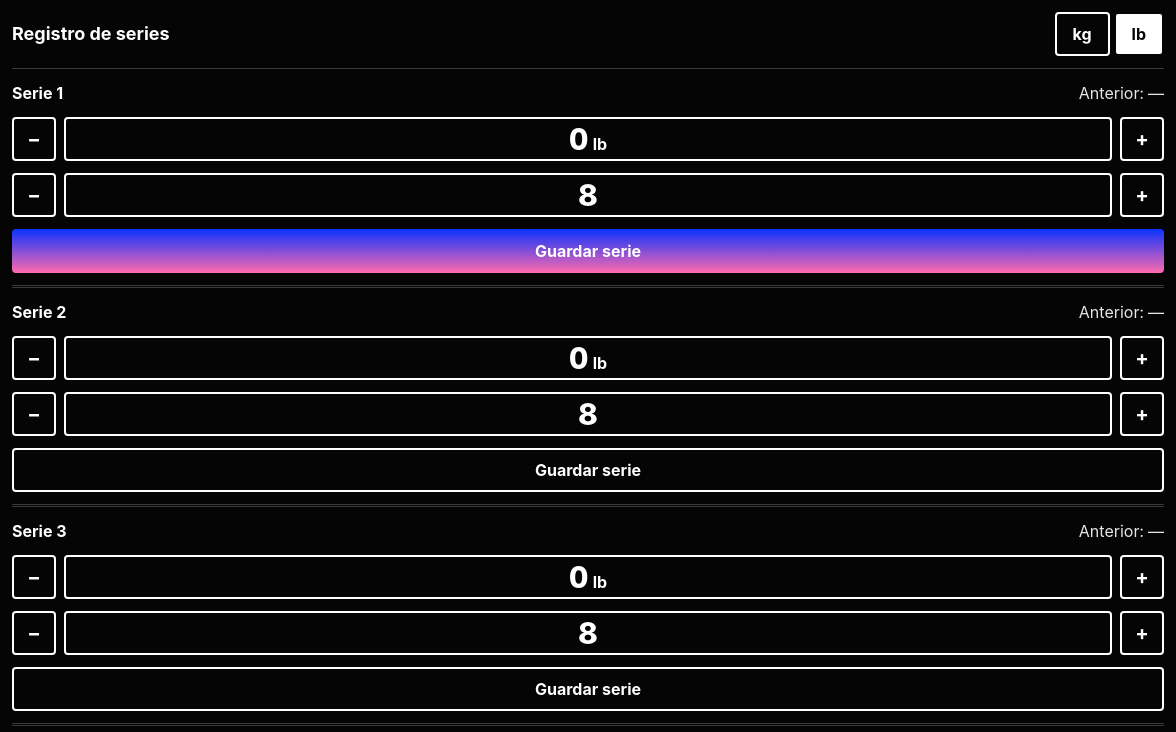
it: LoggingSection — unidad de peso (08 R1, R4, R6, R7, R11, R14, R15) › R7/R9/R14: guardar 45 lb inserta weight_kg 20.41 y la fila queda '45 lb'
The width and height of the screenshot is (1176, 732).
Expected: the heading "Serie 1" is shown, [12,81,63,105]
Click the button with aria-label "Peso serie 1" at (588, 139), box [64,117,1112,161]
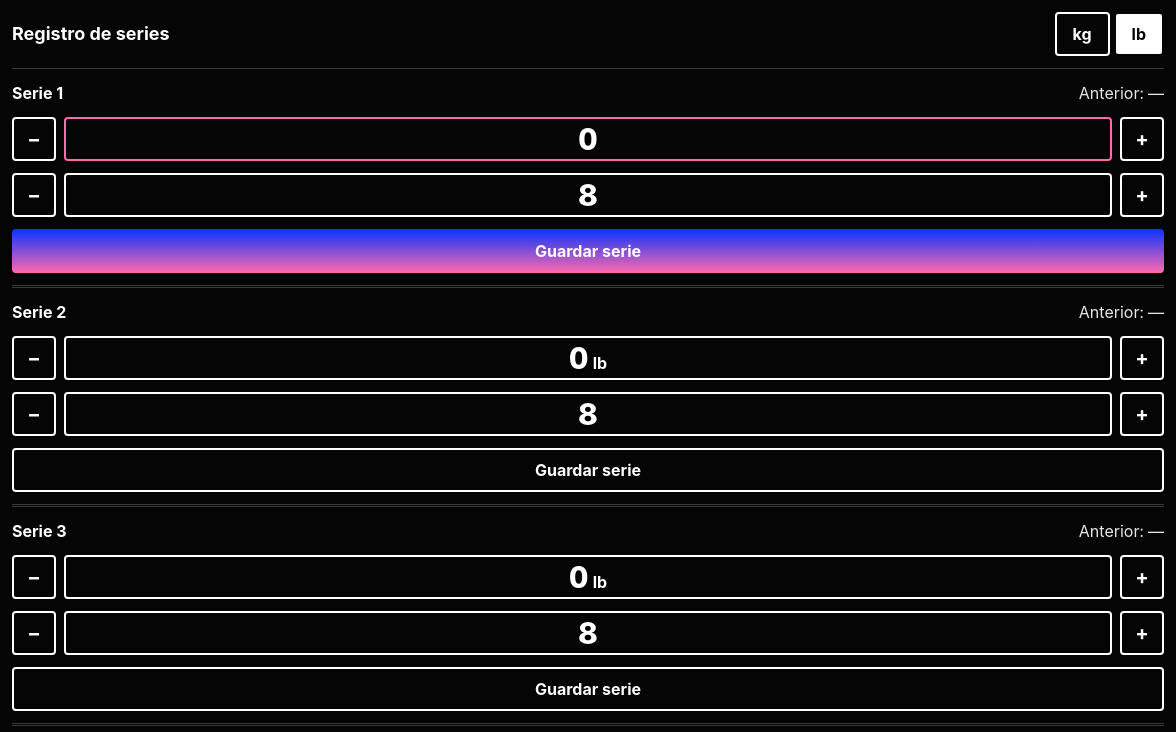
Replace the text in the field named "Peso serie 1" with "45" at (588, 139), box [64,117,1112,161]
Then press Enter
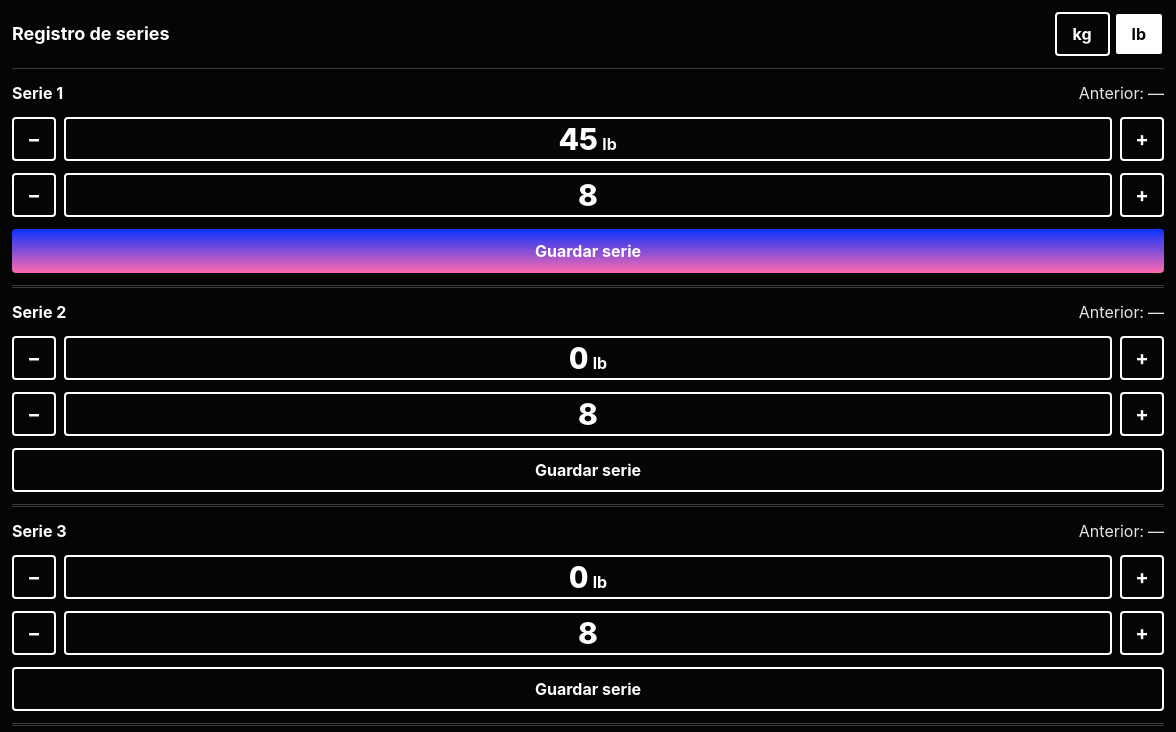
Click the 1st button "Guardar serie" at (588, 251), box [12,229,1164,273]
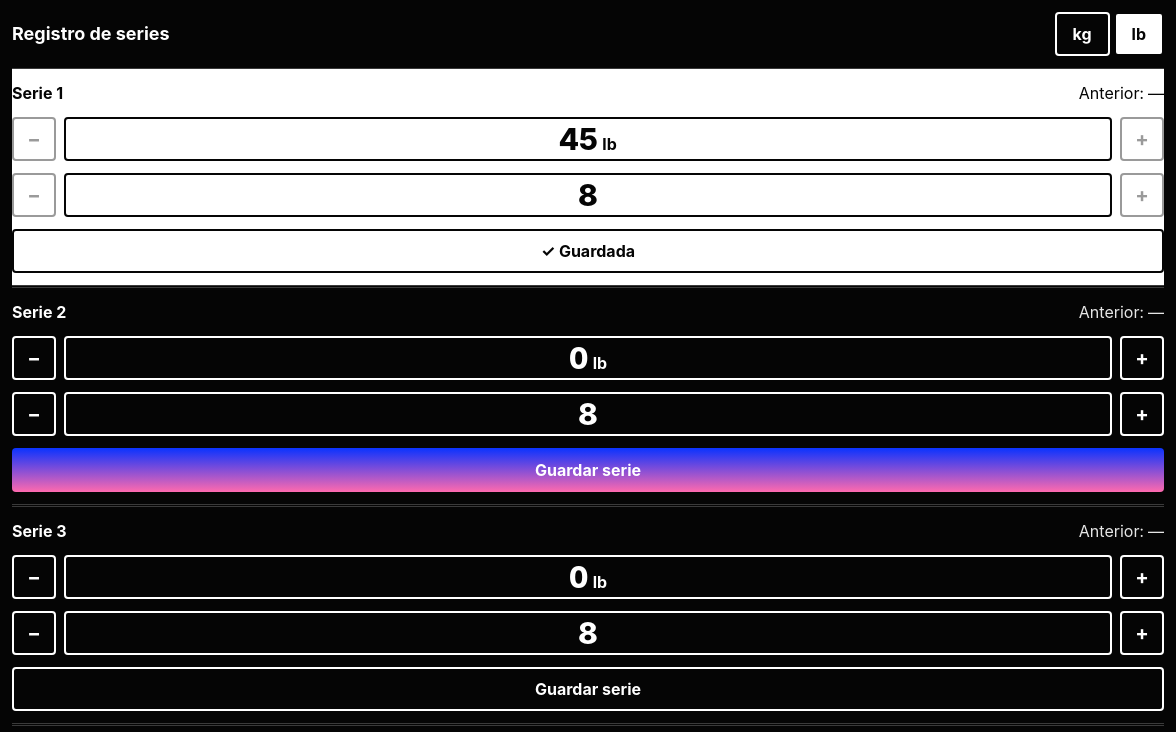
Expected: the button with aria-label "Peso serie 1" reads "45 lb", [64,117,1112,161]
Expected: the button "✓ Guardada" is disabled, [12,229,1164,273]
